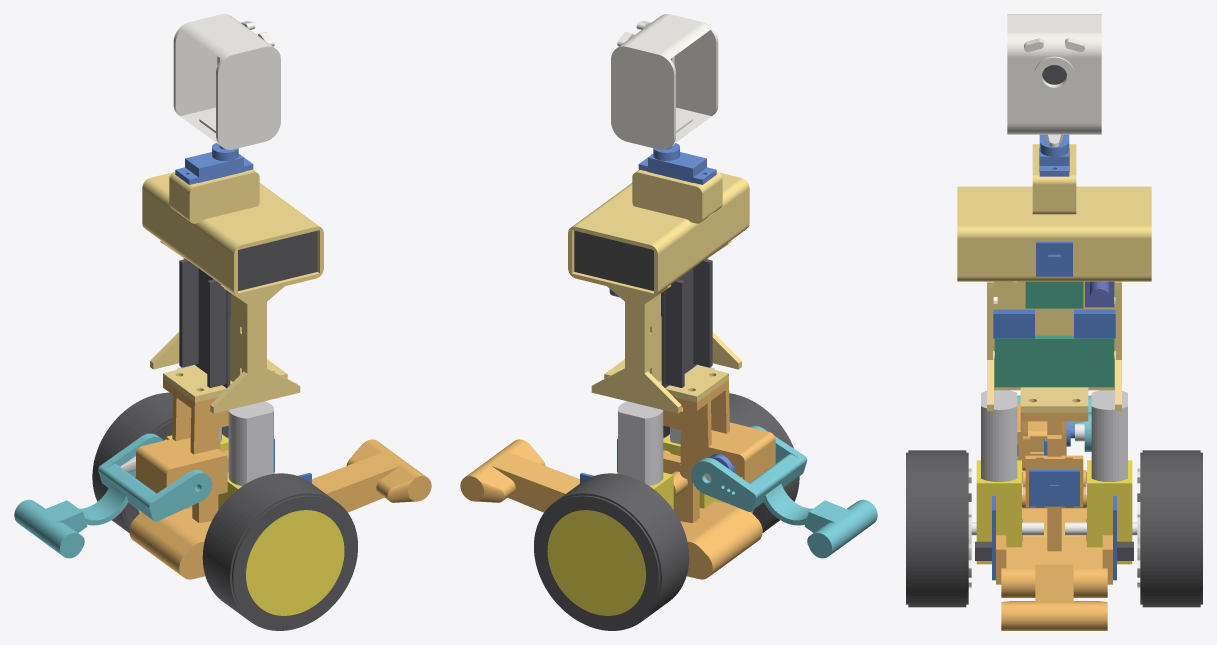
File: assembled_upright.glb
The picture shows the model from 3 angles, left to right: view 1: azimuth 30°, elevation 25°; view 2: azimuth 150°, elevation 25°; view 3: azimuth 270°, elevation 25°; orthographic projection. The views are drawn at different scales.
Parts seen in each view (by area): view 1: torso, head, core_right, tyre_r, rim_r, tail, esp32, core_left, tyre_l, tt_can_r, holder, pan_servo; view 2: torso, head, tyre_l, core_left, rim_l, tail, core_right, esp32, tt_can_l, holder, tyre_r, pan_servo; view 3: torso, head, tyre_l, tyre_r, core_right, core_left, bms_2s, tt_can_l, tt_can_r, tt_gearbox_l, tt_gearbox_r, imu (+9 smaller).
Boxes of the visible parts, x1=… form: torso: x1=142, y1=169, x2=323, y2=413; head: x1=173, y1=14, x2=280, y2=149; core_right: x1=141, y1=391, x2=431, y2=579; tyre_r: x1=202, y1=473, x2=357, y2=630; rim_r: x1=246, y1=510, x2=344, y2=615; tail: x1=14, y1=433, x2=212, y2=558; esp32: x1=179, y1=259, x2=230, y2=388; core_left: x1=129, y1=379, x2=401, y2=557; tyre_l: x1=92, y1=392, x2=228, y2=532; tt_can_r: x1=228, y1=401, x2=273, y2=485; holder: x1=238, y1=230, x2=317, y2=290; pan_servo: x1=175, y1=143, x2=253, y2=184; torso: x1=568, y1=169, x2=749, y2=413; head: x1=611, y1=14, x2=718, y2=149; tyre_l: x1=534, y1=473, x2=689, y2=630; core_left: x1=460, y1=391, x2=750, y2=579; rim_l: x1=547, y1=510, x2=645, y2=615; tail: x1=691, y1=426, x2=877, y2=558; core_right: x1=490, y1=379, x2=775, y2=557; esp32: x1=661, y1=259, x2=712, y2=388; tt_can_l: x1=618, y1=401, x2=663, y2=485; holder: x1=574, y1=230, x2=653, y2=290; tyre_r: x1=663, y1=393, x2=799, y2=532; pan_servo: x1=638, y1=143, x2=716, y2=184; torso: x1=957, y1=144, x2=1151, y2=412; head: x1=1007, y1=14, x2=1101, y2=134; tyre_l: x1=1140, y1=450, x2=1202, y2=607; tyre_r: x1=906, y1=450, x2=968, y2=607; core_right: x1=996, y1=402, x2=1054, y2=630; core_left: x1=1054, y1=412, x2=1112, y2=630; bms_2s: x1=994, y1=335, x2=1114, y2=387; tt_can_l: x1=1091, y1=390, x2=1127, y2=481; tt_can_r: x1=981, y1=390, x2=1017, y2=481; tt_gearbox_l: x1=1087, y1=460, x2=1132, y2=564; tt_gearbox_r: x1=976, y1=460, x2=1021, y2=564; imu: x1=1029, y1=470, x2=1079, y2=506.
Bounding box in the file's own units: 0.1875 × 0.2637 × 0.123.
